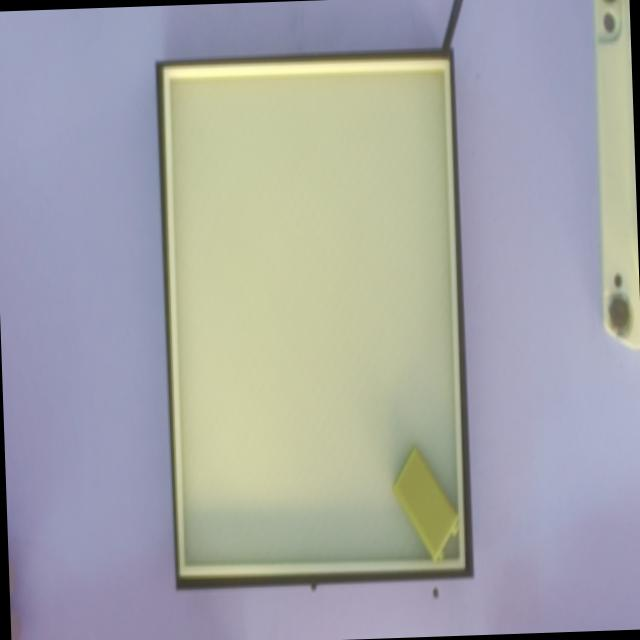bateria: (392, 444, 459, 563)
mesa: (155, 47, 473, 590)
